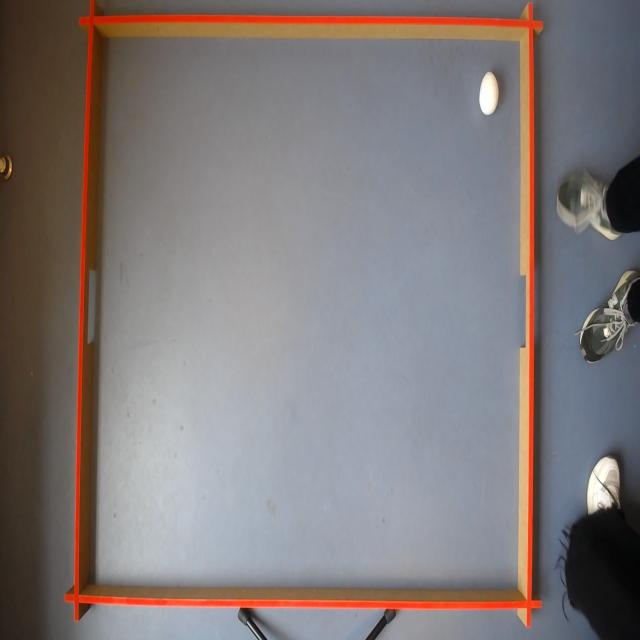egg: (478, 69, 499, 117)
